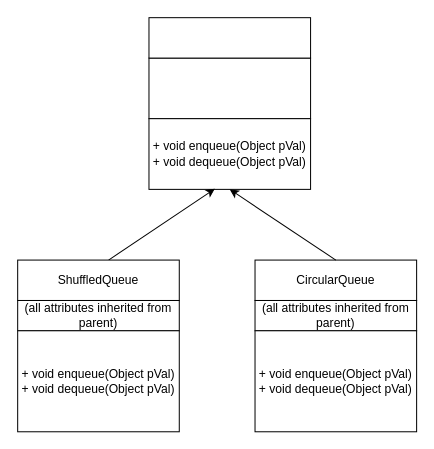
Image size: 434x449. Some labels were removed from this diagram. Each missing label, with the centre of its shape:
"- private Object[] Queue - int head = -1 - int head = -1" belongs at (x=229, y=88).
"Queue" belongs at (x=229, y=37).
